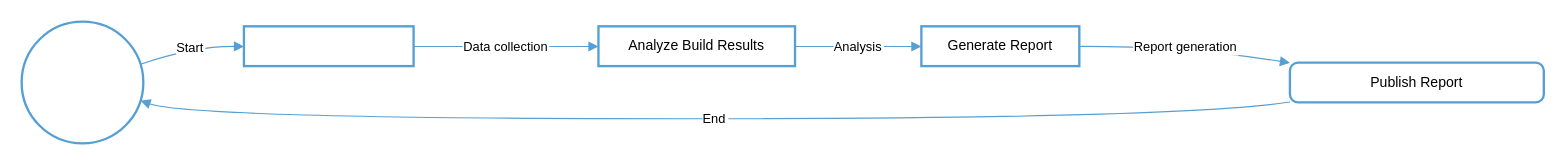
Some shapes in this 1564 by 164 pixel diagram are drawn without their labels. Here are the shapes that lost their labels. From the top down, the box of each, then its label:
(242, 25, 414, 67): Collect Build Data
(20, 20, 144, 144): Build Report
